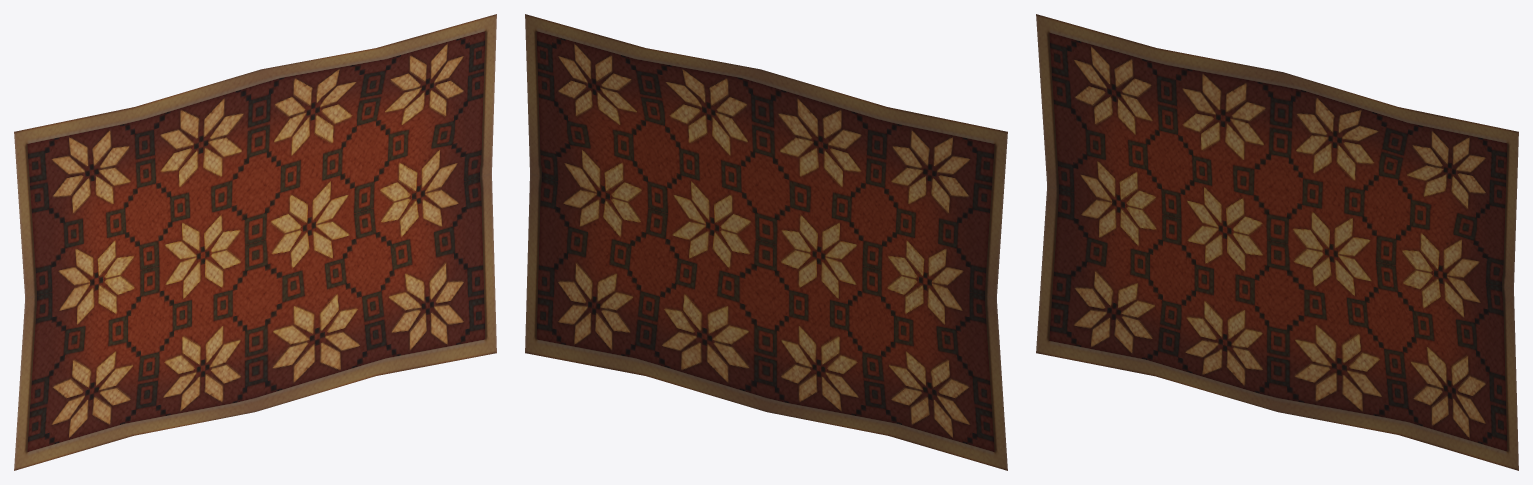
File: Rug_A.fbx
The picture shows the model from 3 angles, left to right: view 1: azimuth 30°, elevation 25°; view 2: azimuth 150°, elevation 25°; view 3: azimuth 330°, elevation 25°; orthographic projection.
Visible parts, largest first — view 1: Rug_A; view 2: Rug_A; view 3: Rug_A.
Boxes of the visible parts, x1=… form: Rug_A: x1=14, y1=14, x2=496, y2=470; Rug_A: x1=525, y1=14, x2=1007, y2=470; Rug_A: x1=1036, y1=14, x2=1518, y2=470.
Size of the model in its own units: 42.6 by 28.77 by 4.77e-06.
